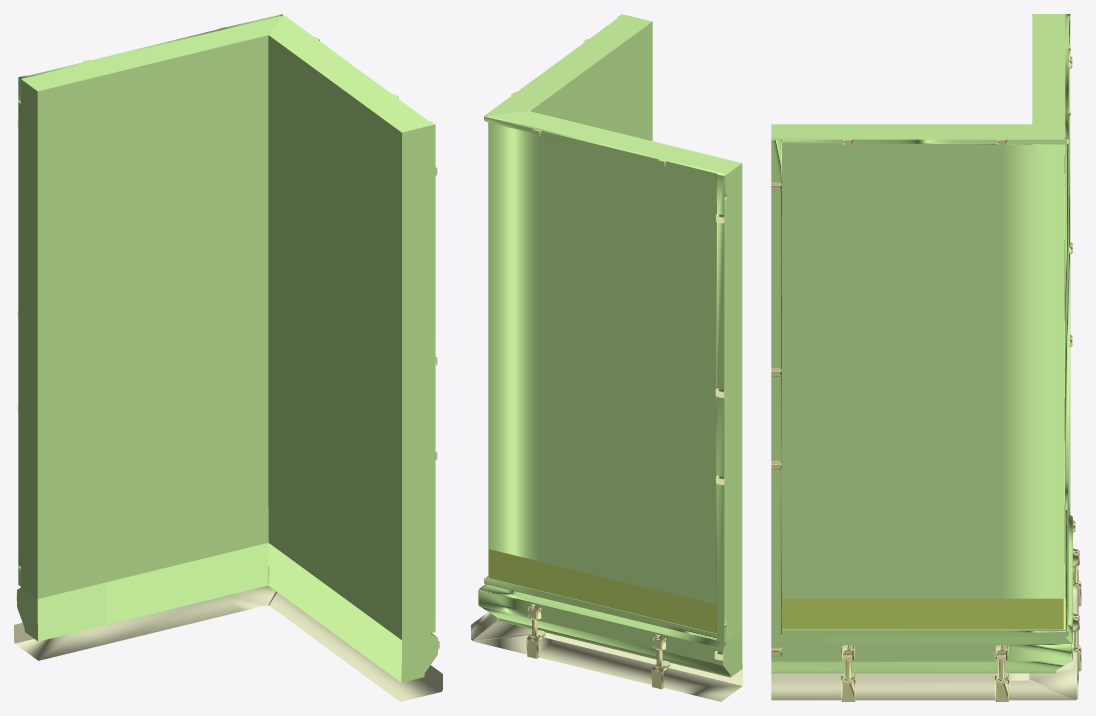
File: roomslg_b_wall_corner_out_04x01x08_a.glb
The picture shows the model from 3 angles, left to right: view 1: azimuth 30°, elevation 25°; view 2: azimuth 150°, elevation 25°; view 3: azimuth 270°, elevation 25°; orthographic projection. The views are drawn at different scales.
Bounding box in the file's own units: 4.04 × 8 × 4.04.
